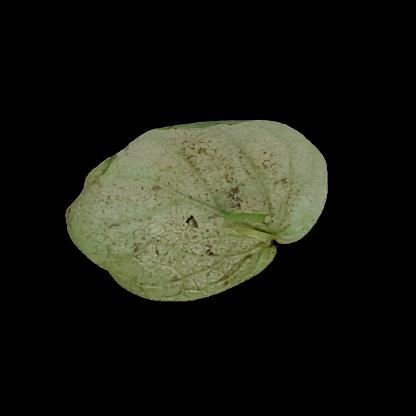curl_stage1: (117, 156, 281, 257), (137, 256, 239, 290)
